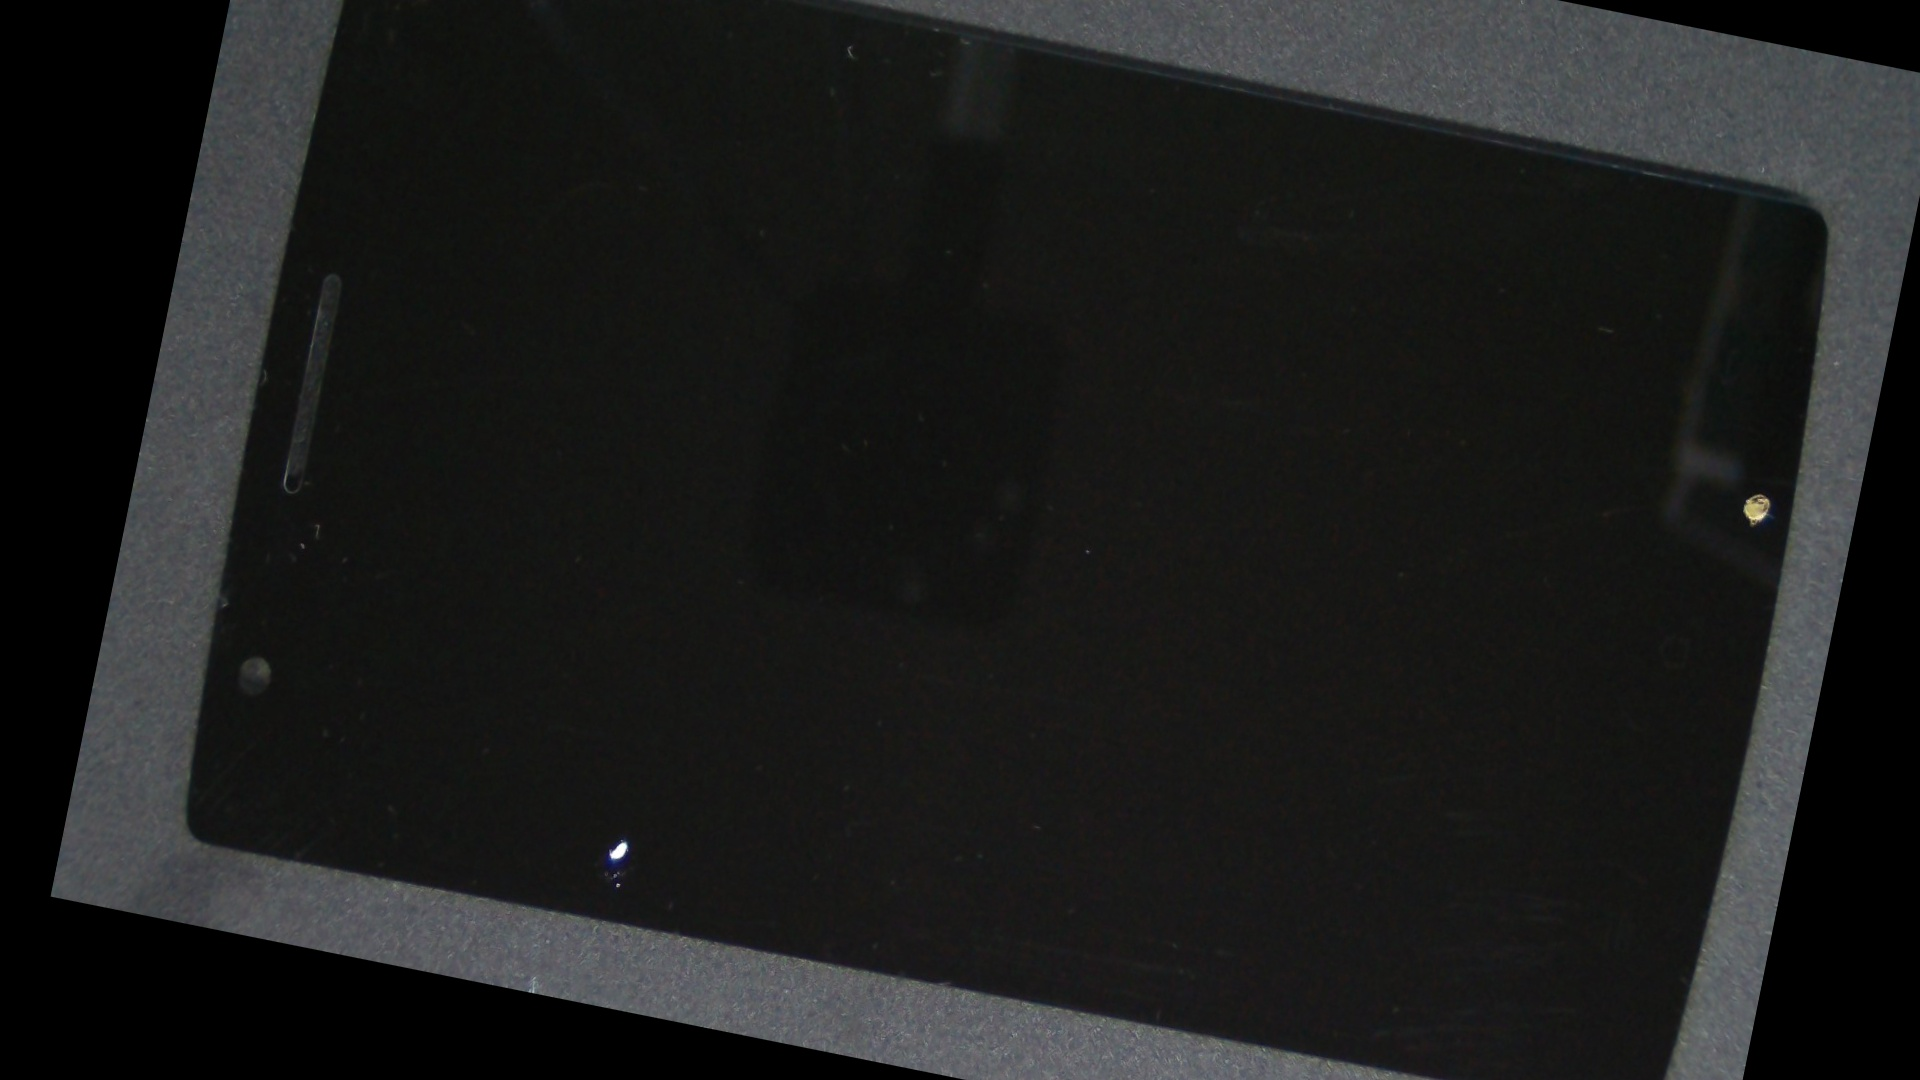oil: (935, 119, 1900, 729), (319, 290, 988, 1058), (323, 303, 988, 1059), (320, 311, 990, 1059)
